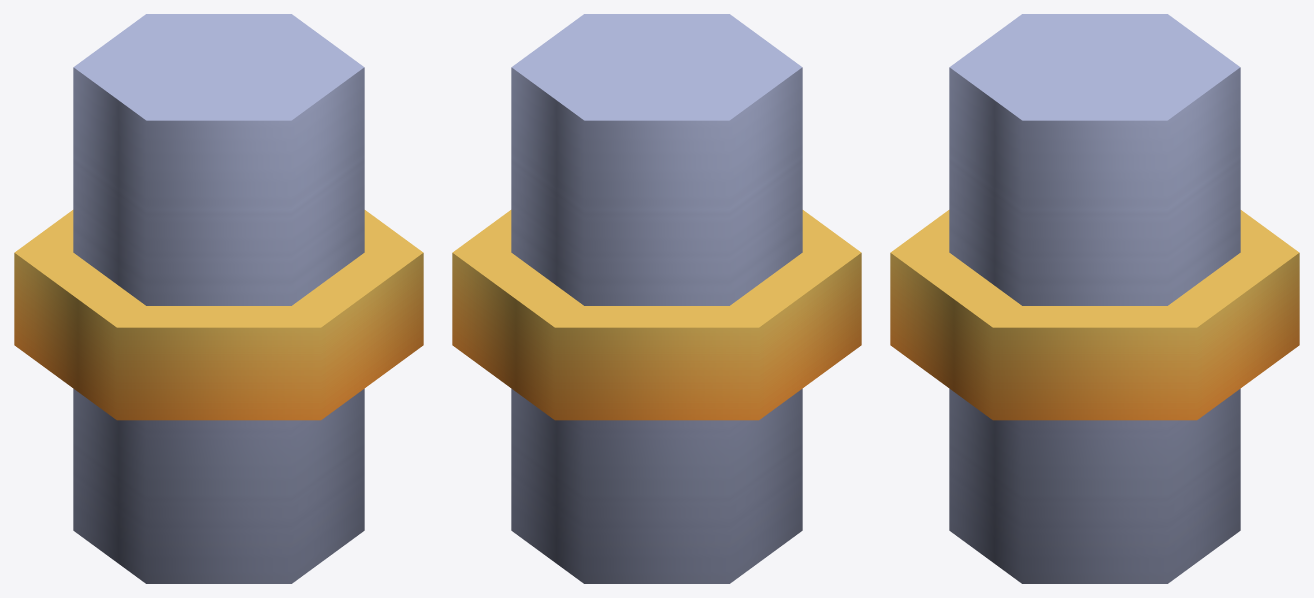
The model's file is pipe-ring-colored.obj.
3 renders of one model, left to right at view 1: azimuth 30°, elevation 25°; view 2: azimuth 150°, elevation 25°; view 3: azimuth 270°, elevation 25°, orthographic.
Parts seen in each view (by area): view 1: pipe-ring-colored; view 2: pipe-ring-colored; view 3: pipe-ring-colored.
Boxes of the visible parts, bbox=[...] form: pipe-ring-colored: bbox=[14, 14, 423, 583]; pipe-ring-colored: bbox=[452, 14, 861, 583]; pipe-ring-colored: bbox=[890, 14, 1299, 583].
Bounding box in the file's own units: 0.3464 × 0.5 × 0.4.
Materials: 1 (1 with a texture image).
